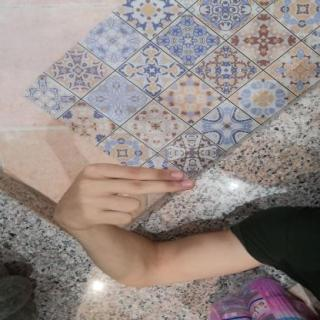AYN: (42, 152, 202, 238)
